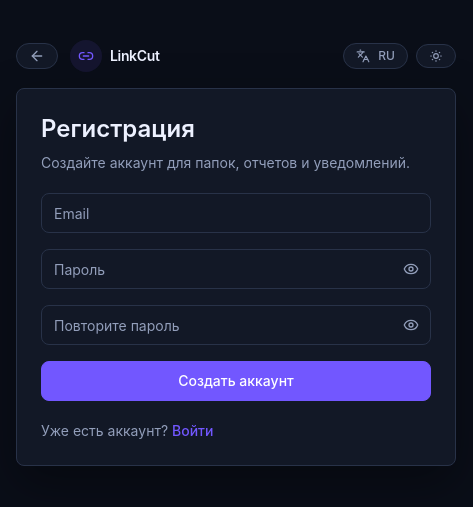
it: registration password validation › shows the Russian minimum-length message before sending the form
The width and height of the screenshot is (473, 507).
Type "123" into the password field with placeholder "Пароль" at (236, 269), box [41,249,431,289]
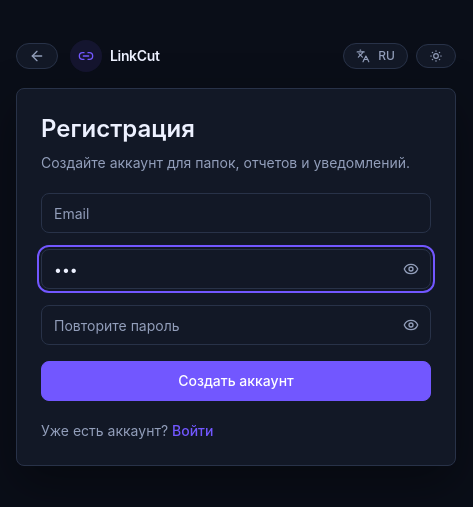
Type "123" into the password field with placeholder "Повторите пароль" at (236, 325), box [41,305,431,345]
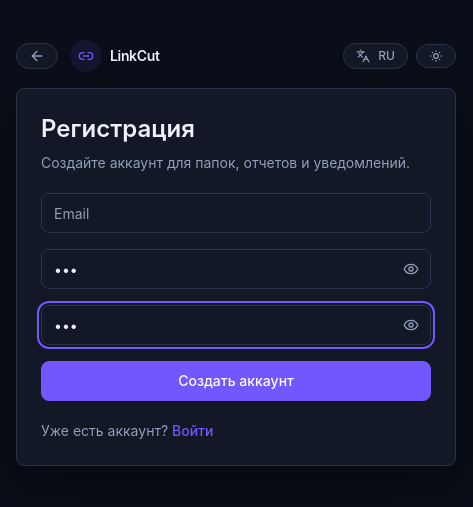
Click the button "Создать аккаунт" at (236, 381), box [41,361,431,401]
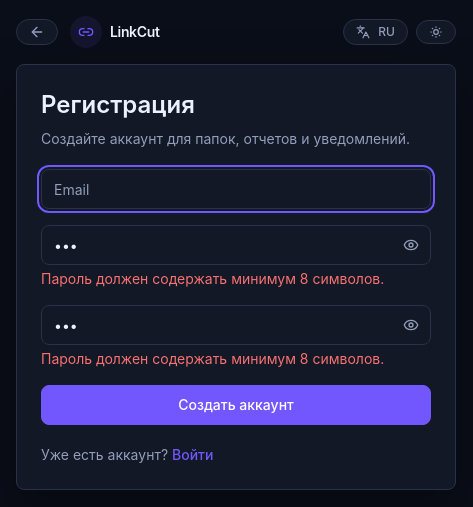
Result: the text "Пароль должен содержать минимум 8 символов." is shown 2 times at [41,269,431,289]; [41,349,431,369]
